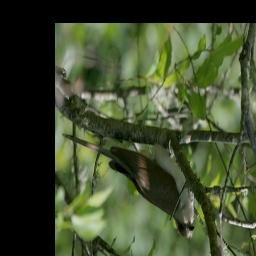Cuckoo: (61, 129, 195, 241)
